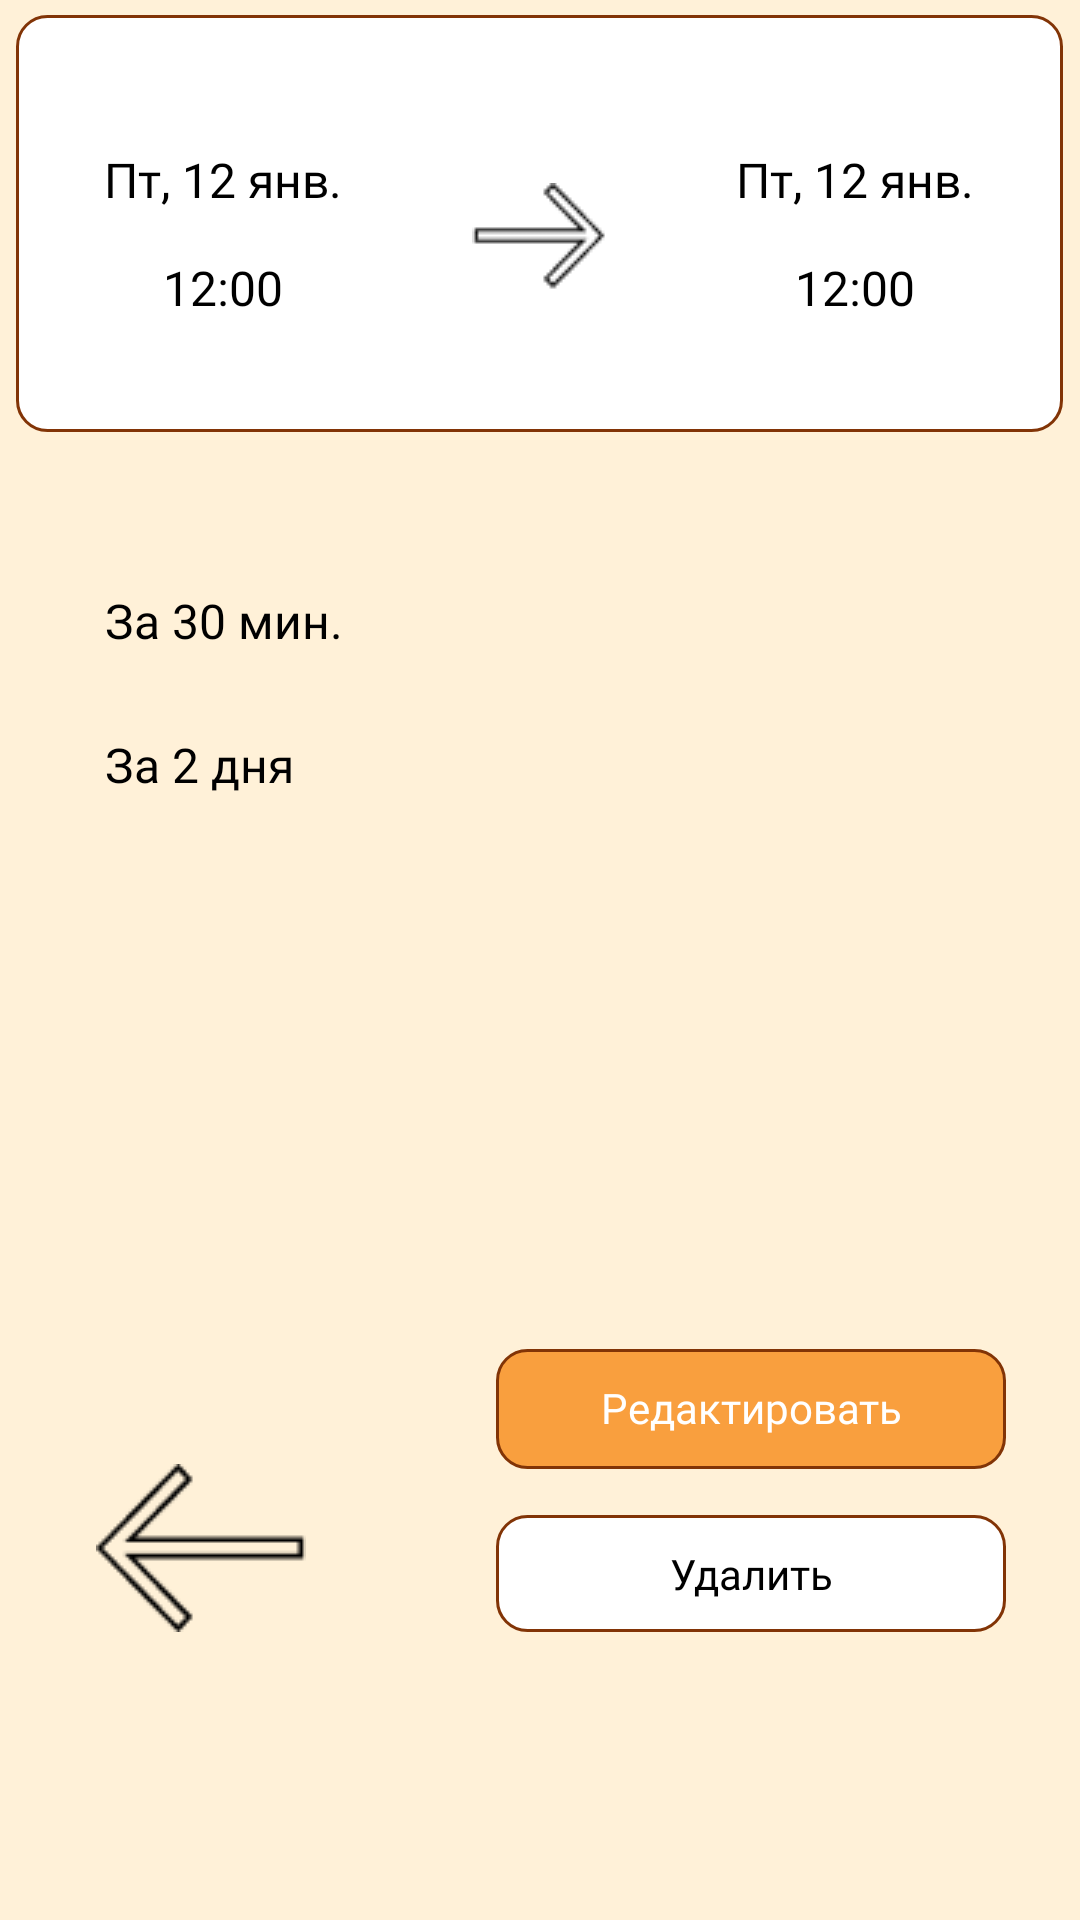

Locate icon controls on the screen. Image size 1080 x 1920, boxes as [x1=x1, y1=y1, x2=x2, y2=y2].
arrow left: [x1=96, y1=1464, x2=306, y2=1632]
arrow right: [x1=472, y1=183, x2=605, y2=289]
